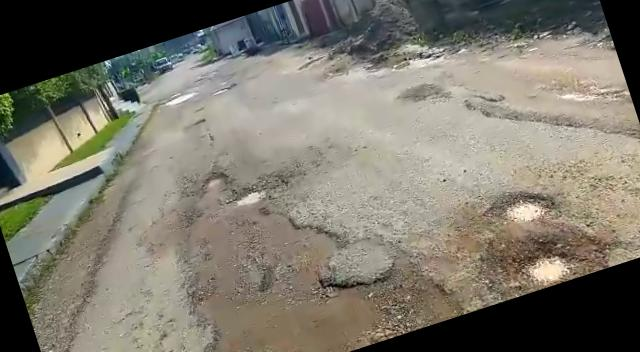pothole: (484, 216, 608, 302), (485, 182, 560, 236), (232, 186, 270, 210), (198, 171, 228, 191)
